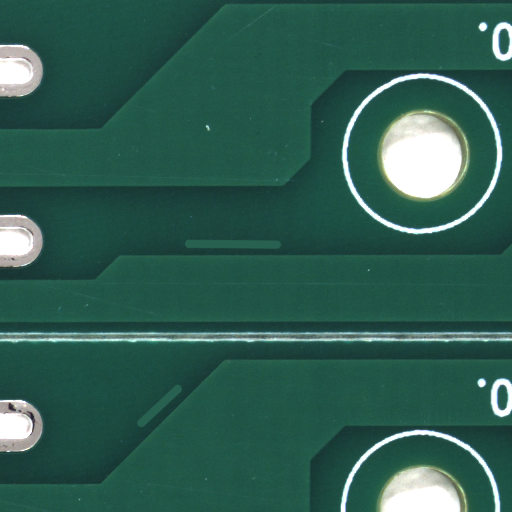Spurious_copper: (158, 405, 204, 448), (230, 244, 331, 259)
